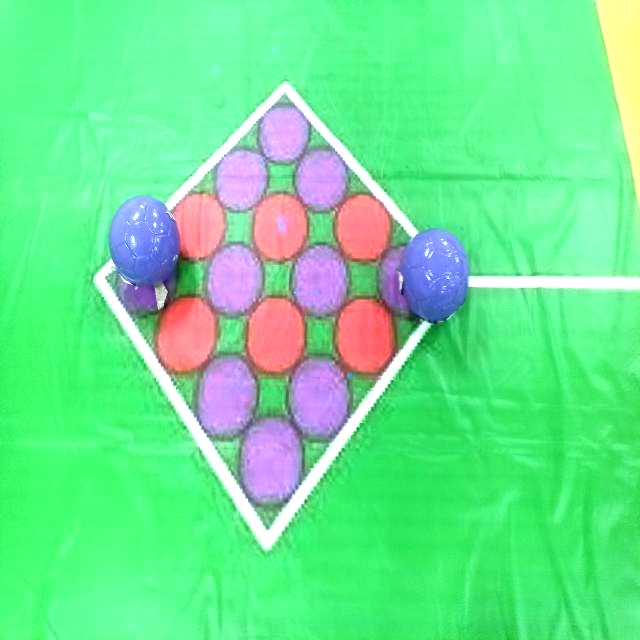purple_ball: (109, 195, 179, 283), (404, 230, 470, 319)
